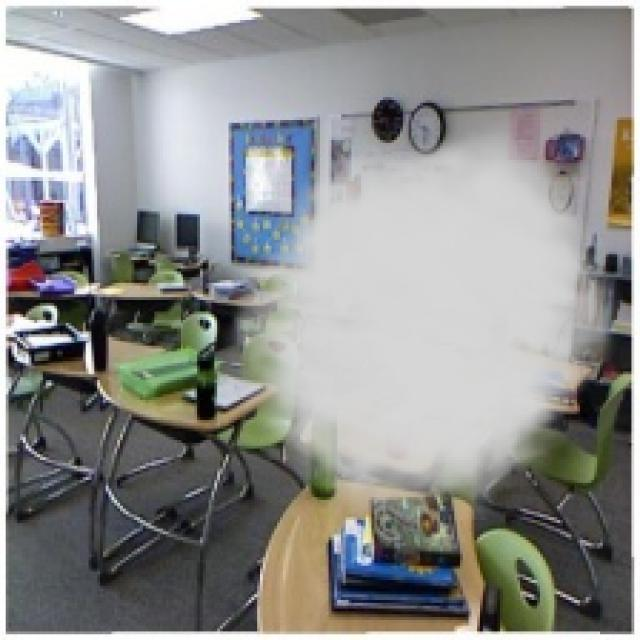Smoke: (215, 114, 634, 520)
